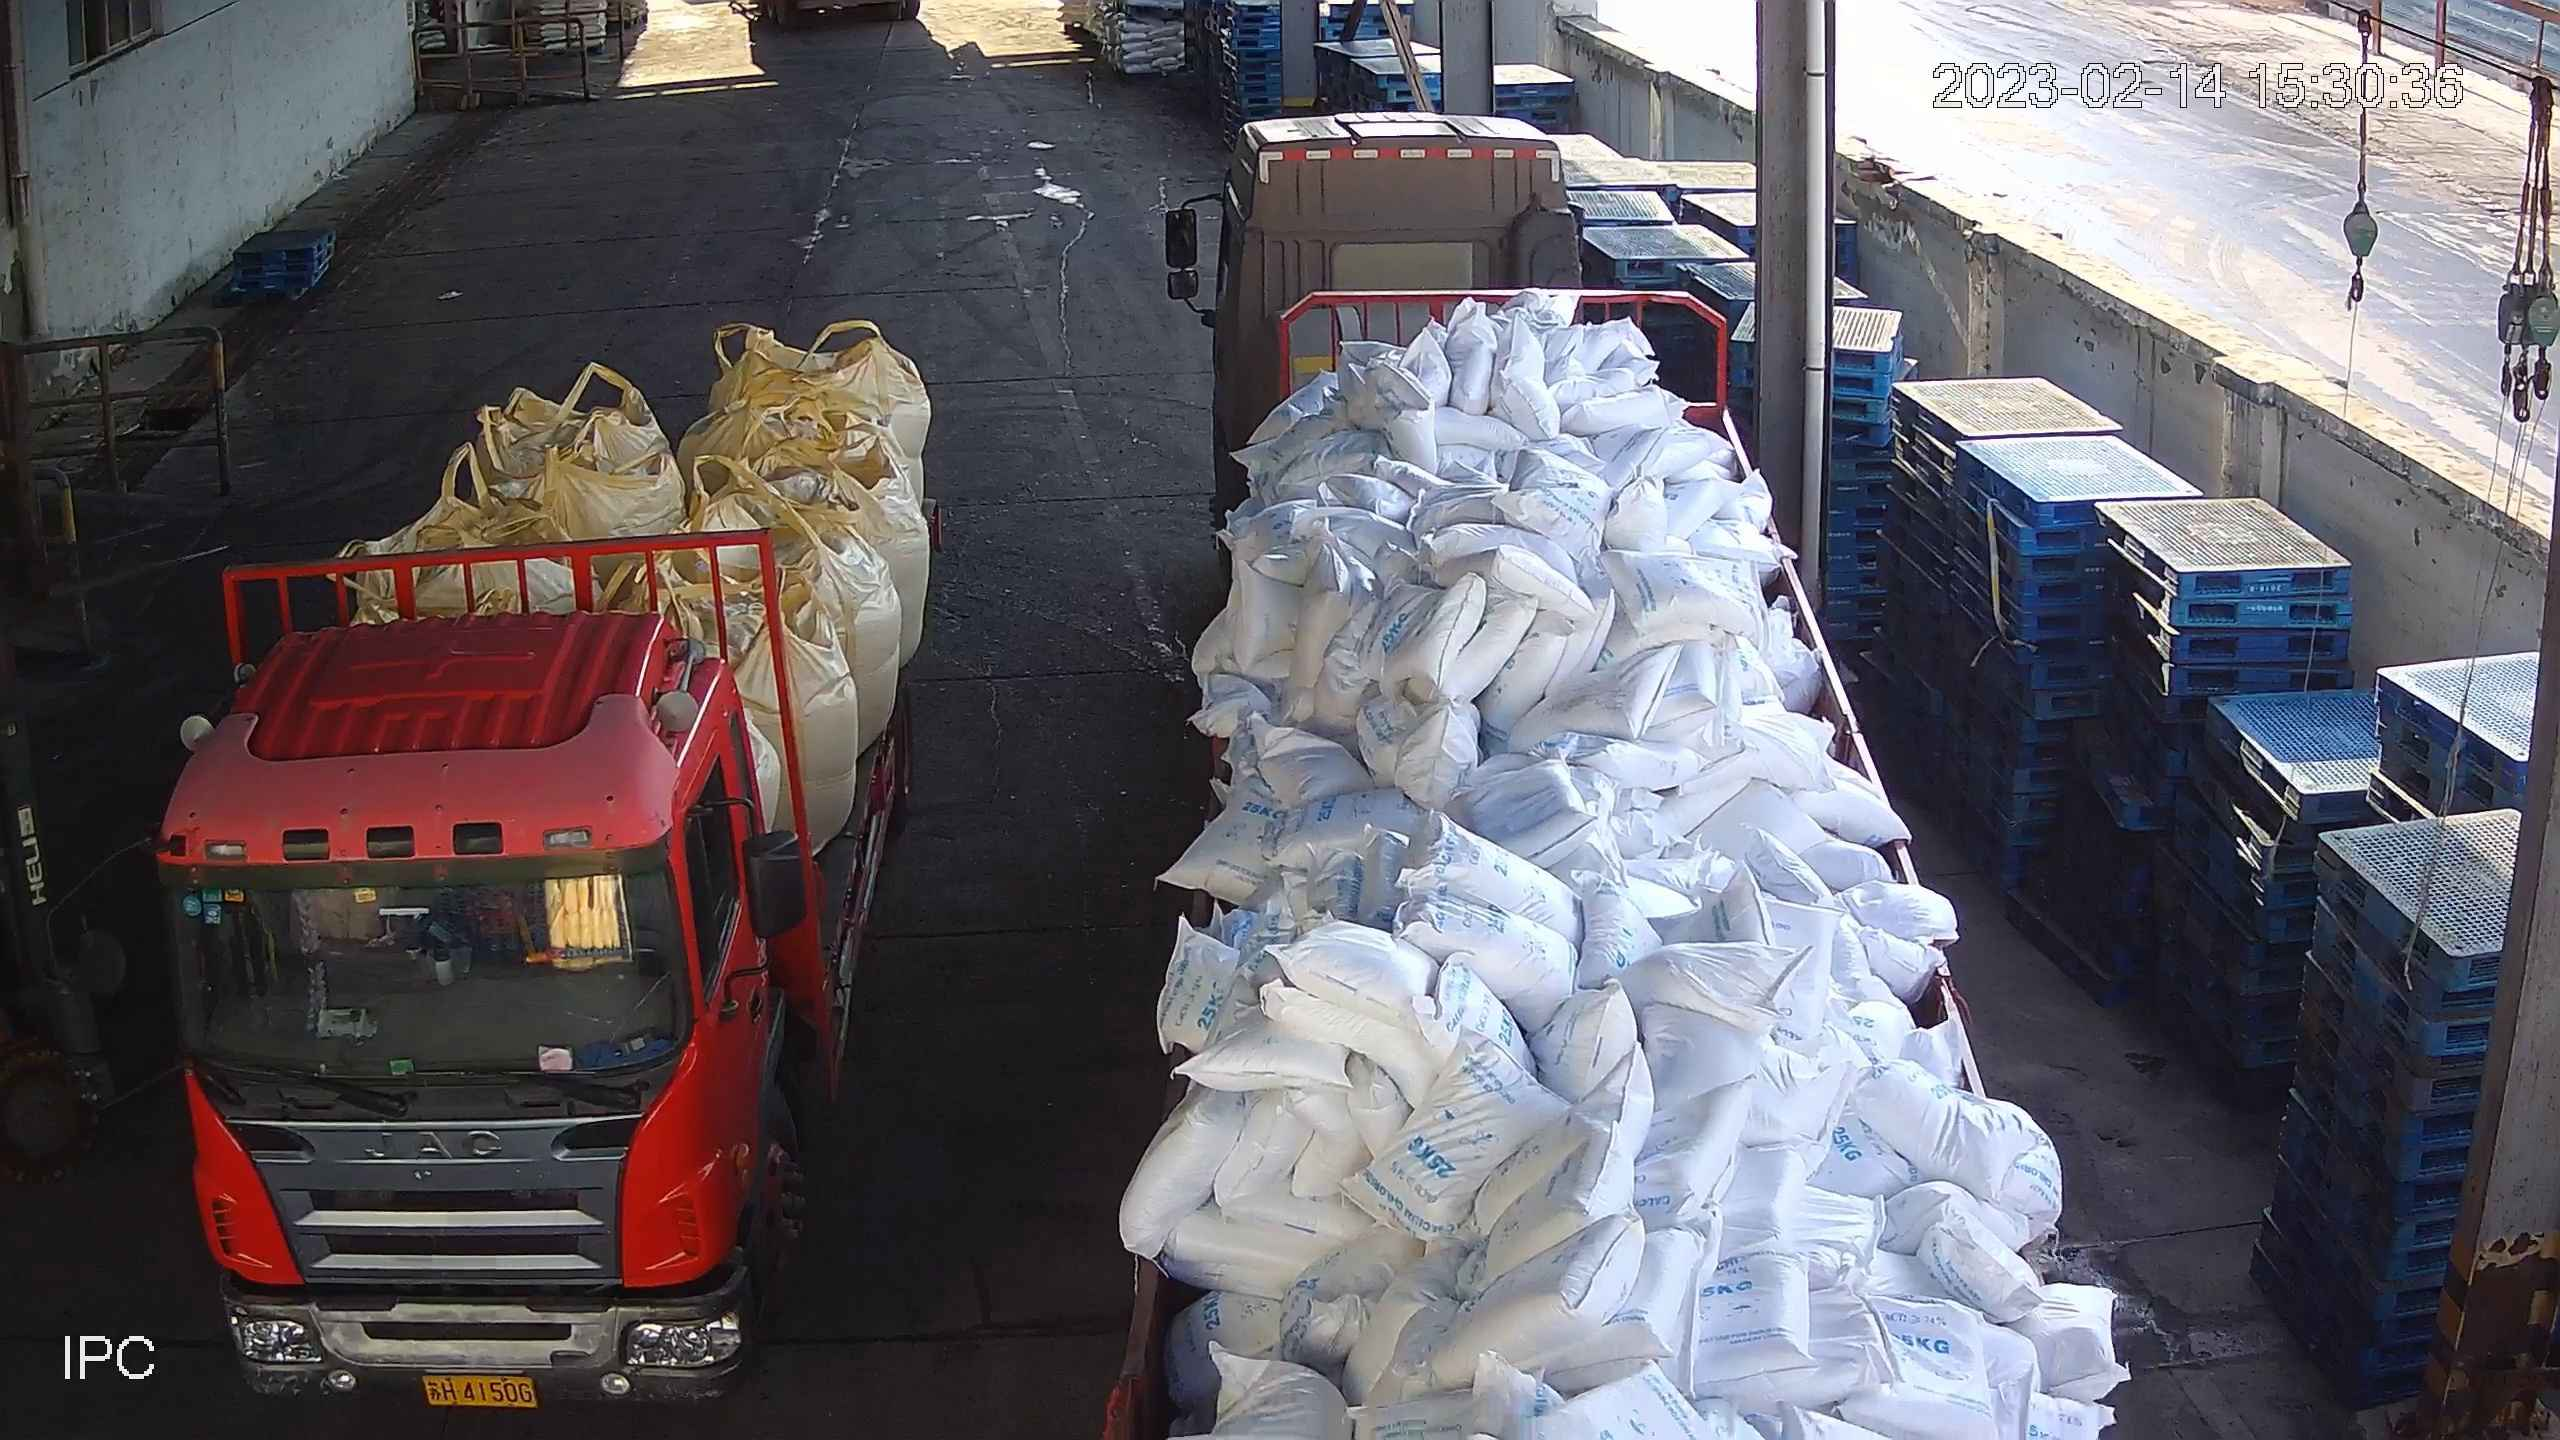truck: (1104, 111, 2054, 1440), (28, 505, 937, 1410)
